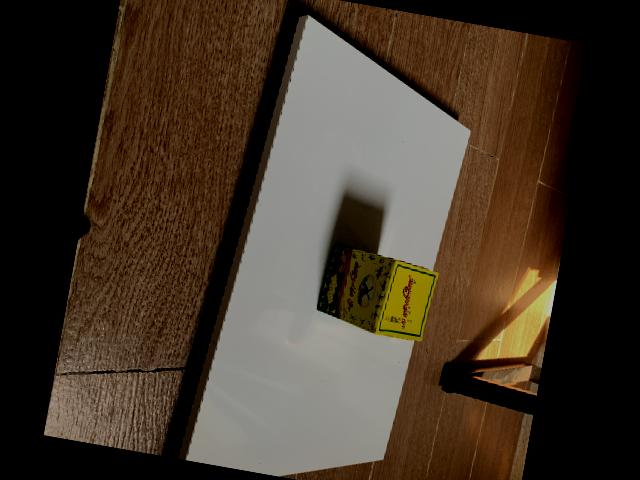luong_kho: (314, 243, 437, 341)
